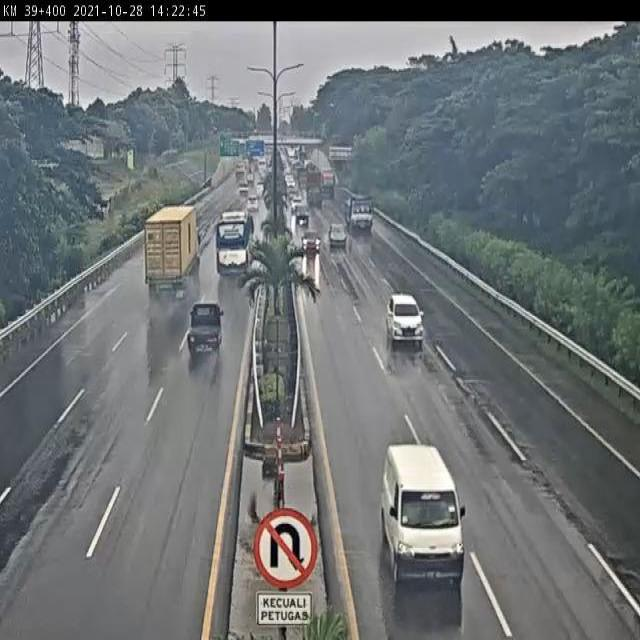bus-l-: (213, 206, 256, 282)
car: (186, 303, 223, 357)
truck-xl-: (144, 202, 206, 294)
